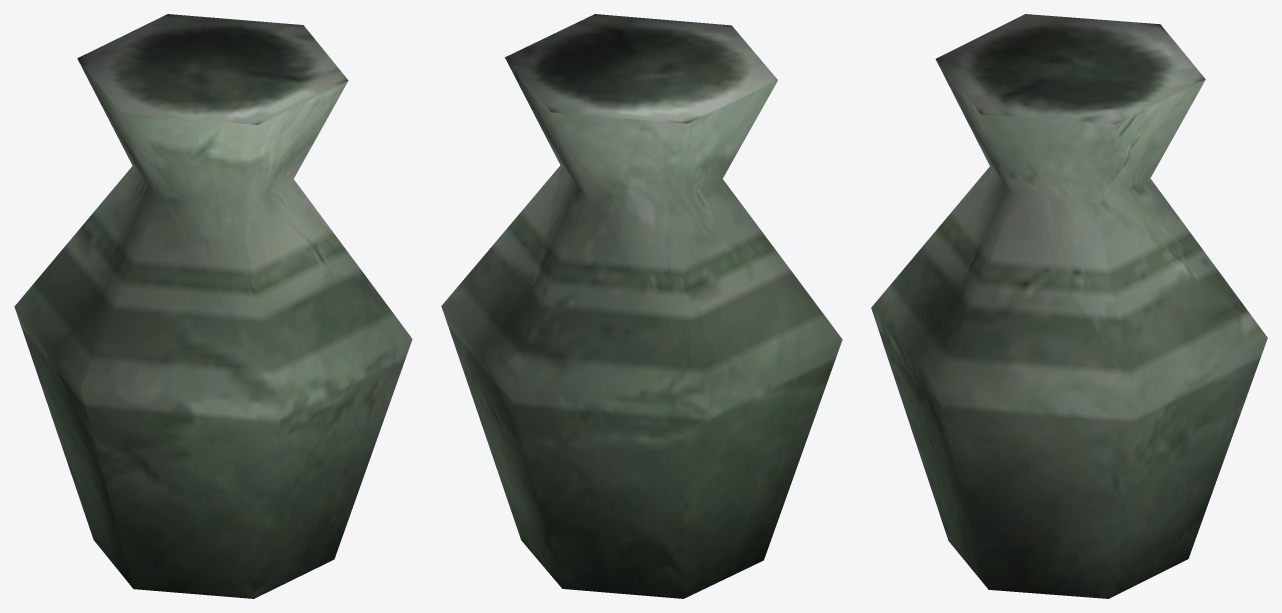
The model's file is environment_common_guanzi_001_b.FBX.
3 renders of one model, left to right at view 1: azimuth 30°, elevation 25°; view 2: azimuth 150°, elevation 25°; view 3: azimuth 270°, elevation 25°, orthographic.
Parts seen in each view (by area): view 1: environment_common_guanzi_001_b; view 2: environment_common_guanzi_001_b; view 3: environment_common_guanzi_001_b.
Boxes of the visible parts, <box> form: environment_common_guanzi_001_b: <box>14,14,412,598</box>; environment_common_guanzi_001_b: <box>441,14,842,598</box>; environment_common_guanzi_001_b: <box>871,14,1267,598</box>.
Bounding box in the file's own units: 22.43 × 30.98 × 23.11.
